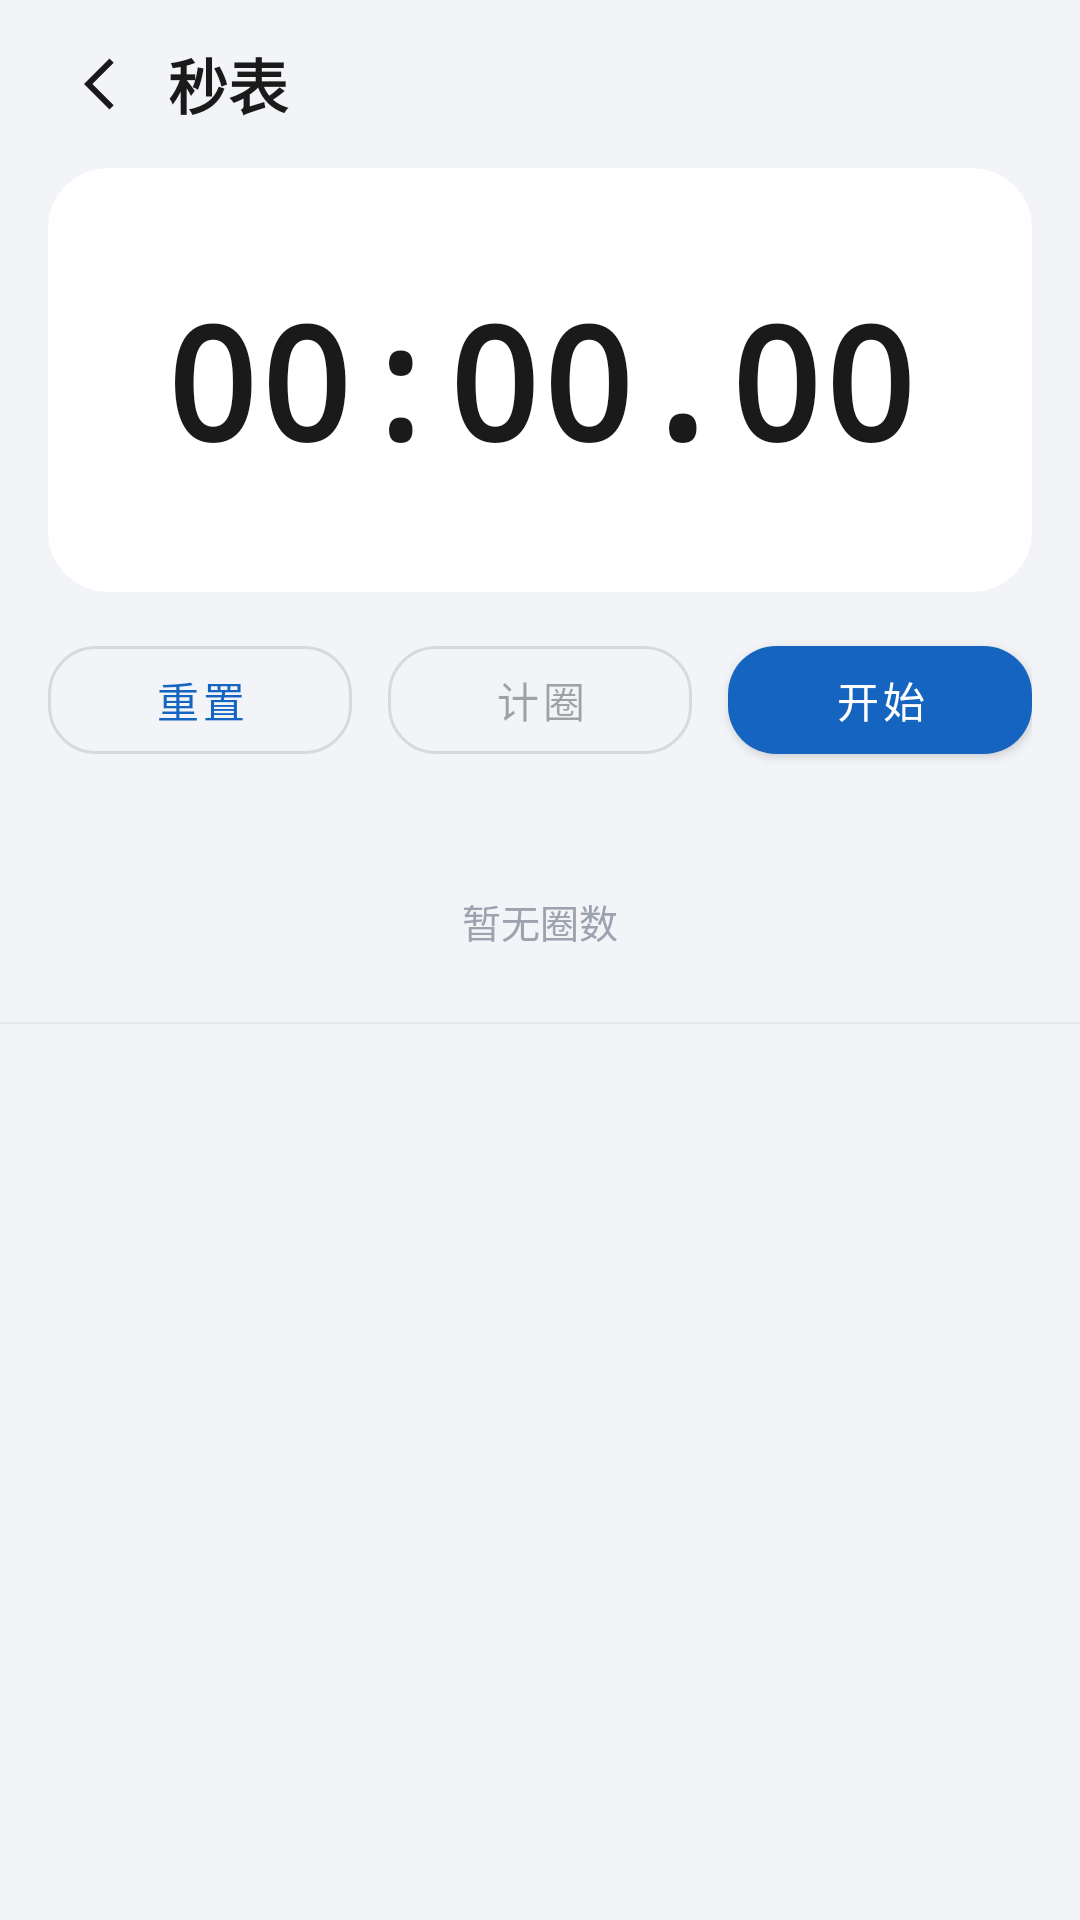

Icons on this 1080x1920 Android screen, each with the point to tap as [x,y]:
返回: [99,84]
